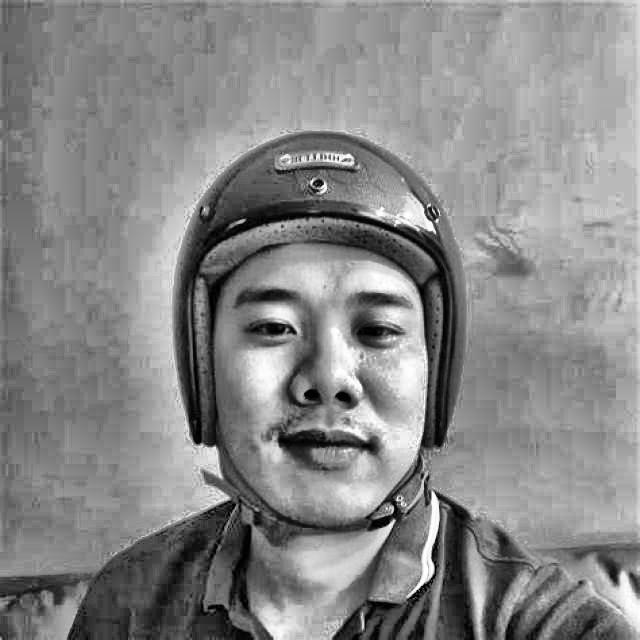Helmet: (166, 126, 474, 544)
